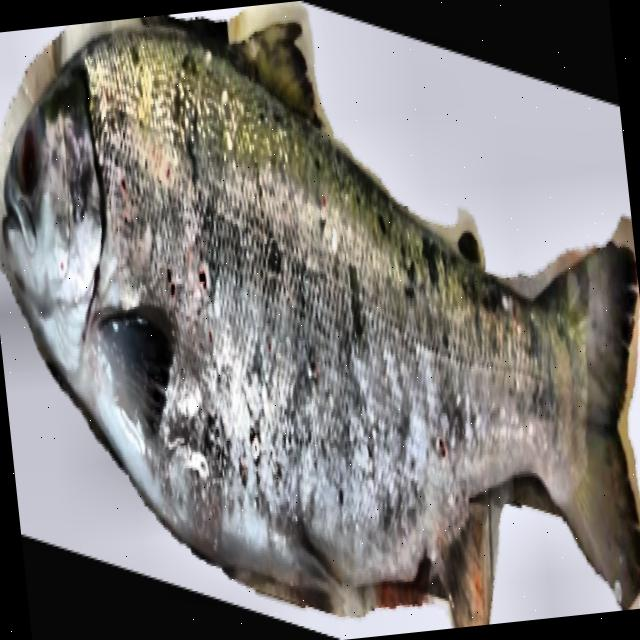mild_red: (84, 32, 585, 584)
